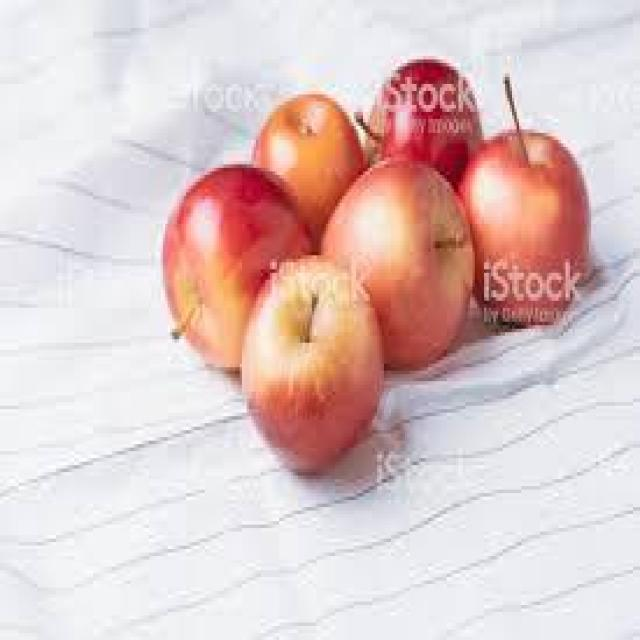apple: (235, 241, 384, 472), (144, 168, 312, 353), (326, 161, 475, 353), (461, 126, 591, 336), (254, 80, 360, 231), (368, 52, 477, 164)
